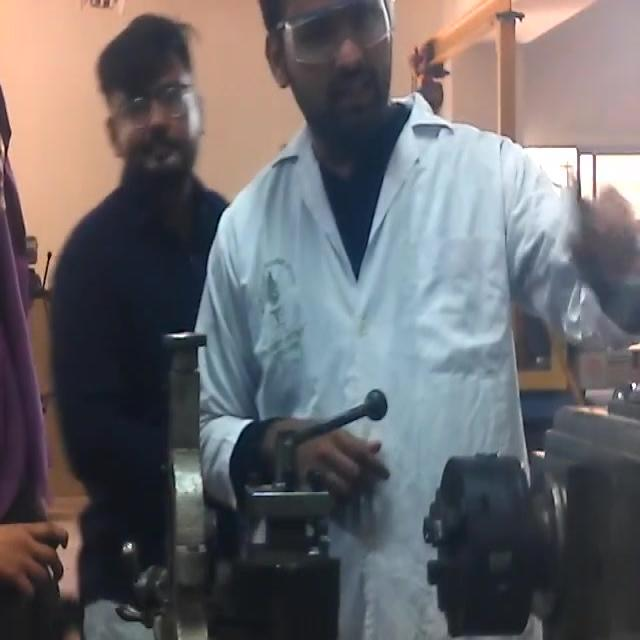googles: (276, 5, 404, 70)
labcoat: (196, 97, 608, 640)
